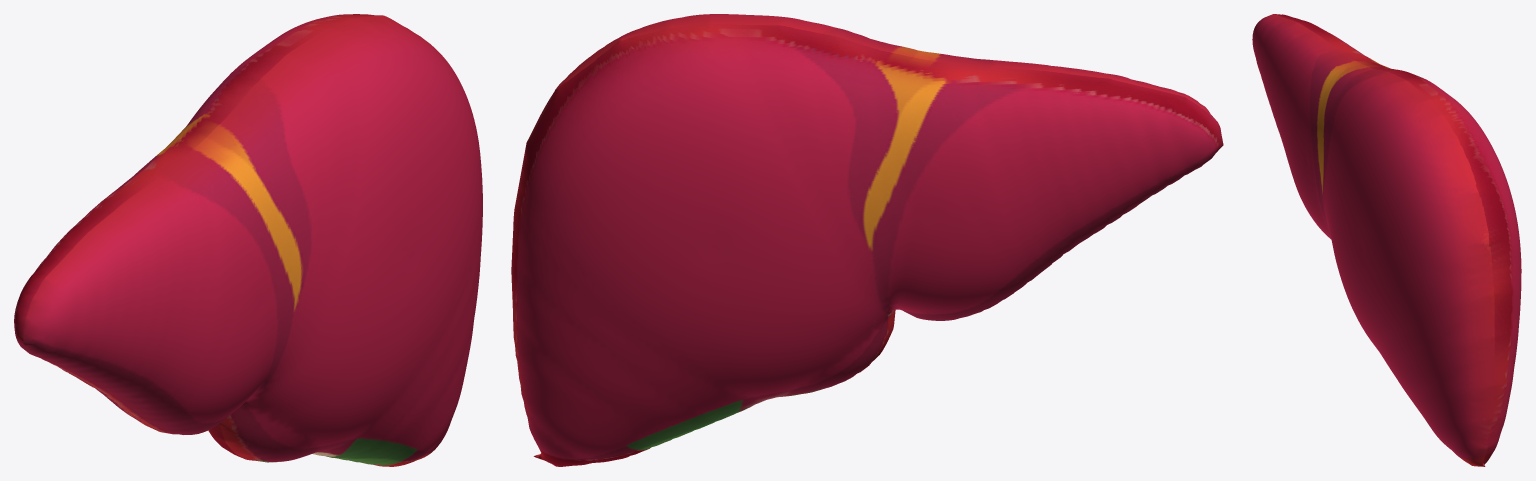
File: foie2.glb
The picture shows the model from 3 angles, left to right: view 1: azimuth 30°, elevation 25°; view 2: azimuth 150°, elevation 25°; view 3: azimuth 270°, elevation 25°; orthographic projection. The views are drawn at different scales.
Parts seen in each view (by area): view 1: Object_5; view 2: Object_5; view 3: Object_5.
Boxes of the visible parts, x1,y1,x2,y2 form: Object_5: (14, 14, 482, 466); Object_5: (511, 14, 1223, 466); Object_5: (1252, 14, 1521, 466).
Bounding box in the file's own units: 0.3467 × 0.2639 × 0.1982.
1 material, 1 textured.
